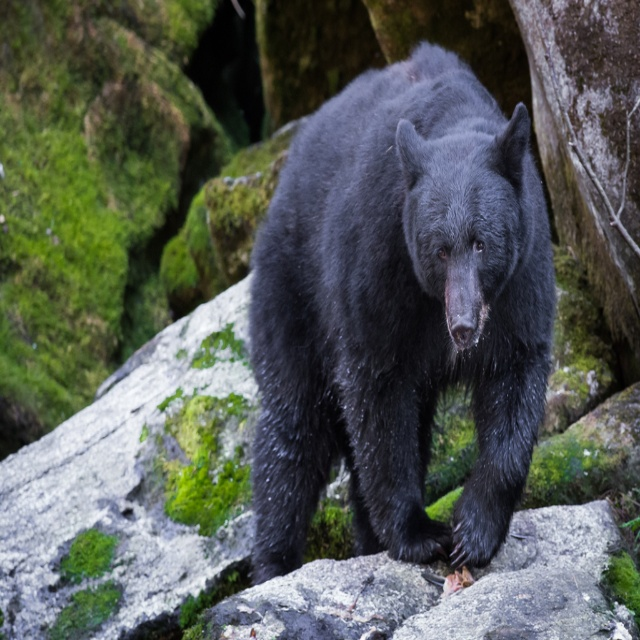Bear: (251, 44, 557, 586)
